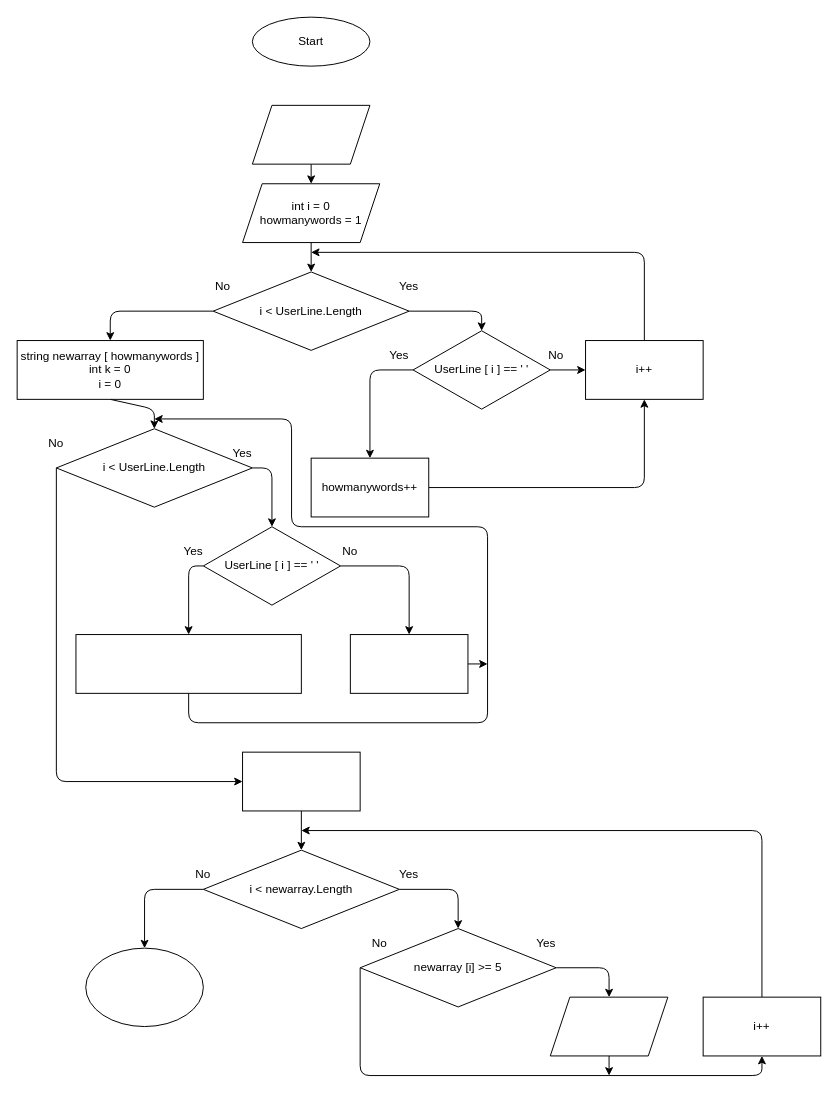
This 838x1101 diagram has some shape labels left out. Each missing label, with the centre of its shape:
"Finish" belongs at (144,987).
"i = 0" belongs at (301,781).
"k++ i++" belongs at (408,663).
"newarray [ i ]" belongs at (608,1026).
"newarray [k] = newarray [k] + UserLine [i] i++" belongs at (188,663).
"string UserLine" belongs at (310,134).
